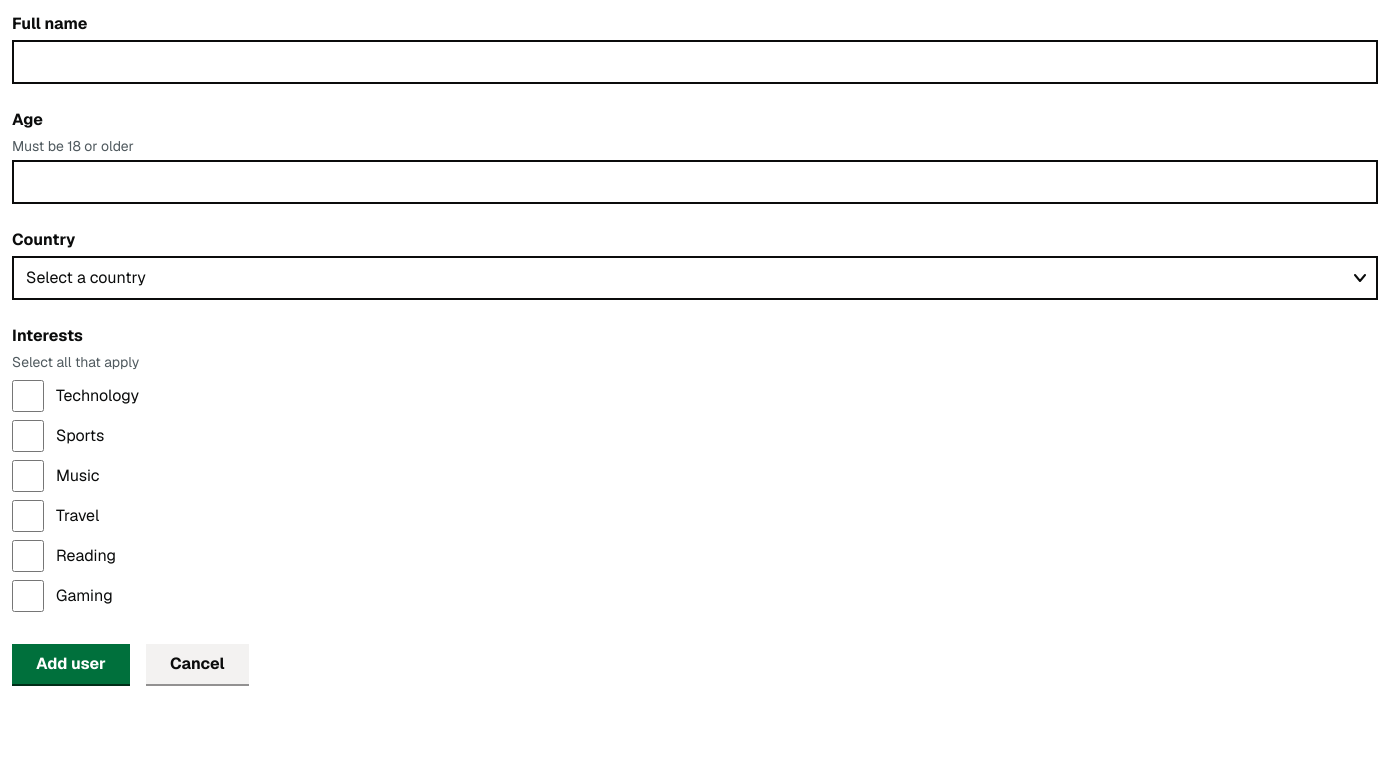
UserForm › validation › shows an age error when age is below 18
In the number field labelled "Age": (695, 182) [12,160,1378,204], type "16"
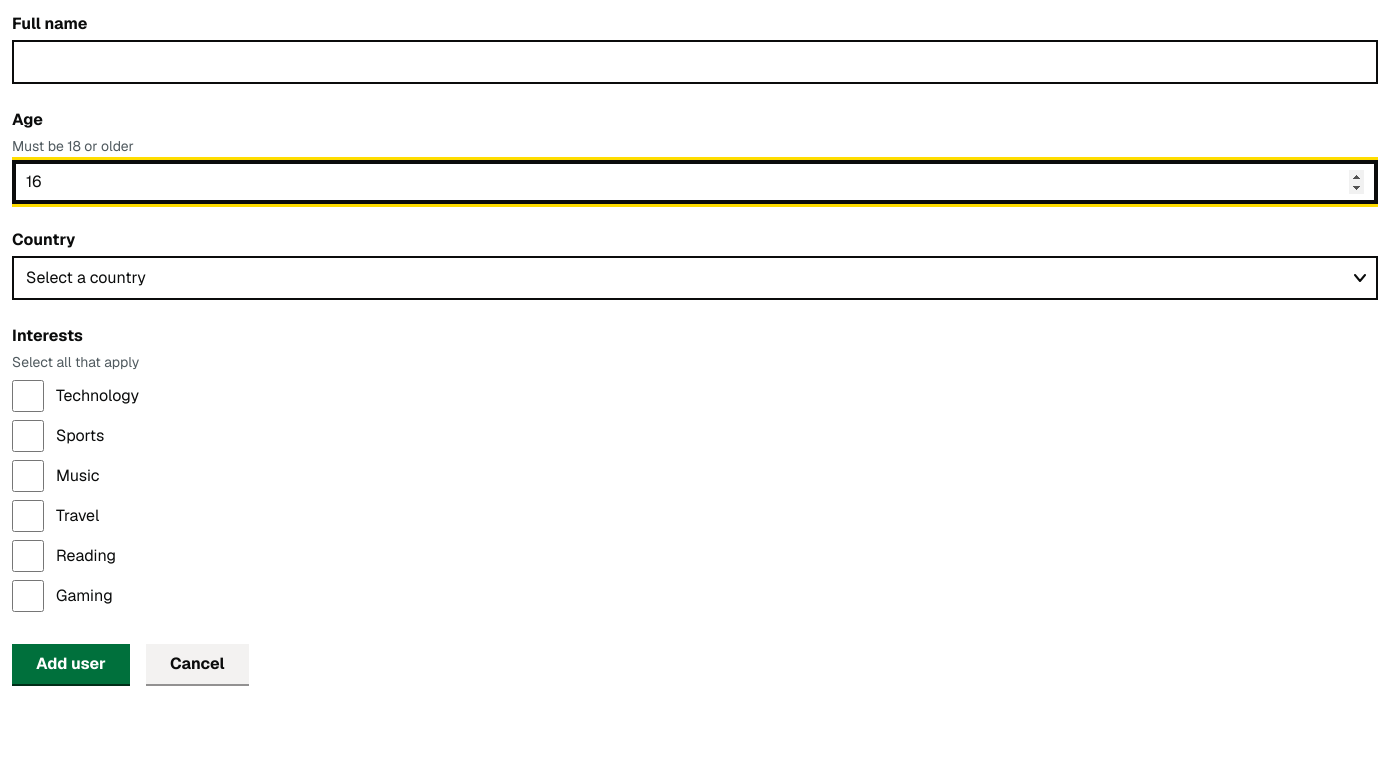
Click the button "Add user": (71, 664) [12,644,130,684]
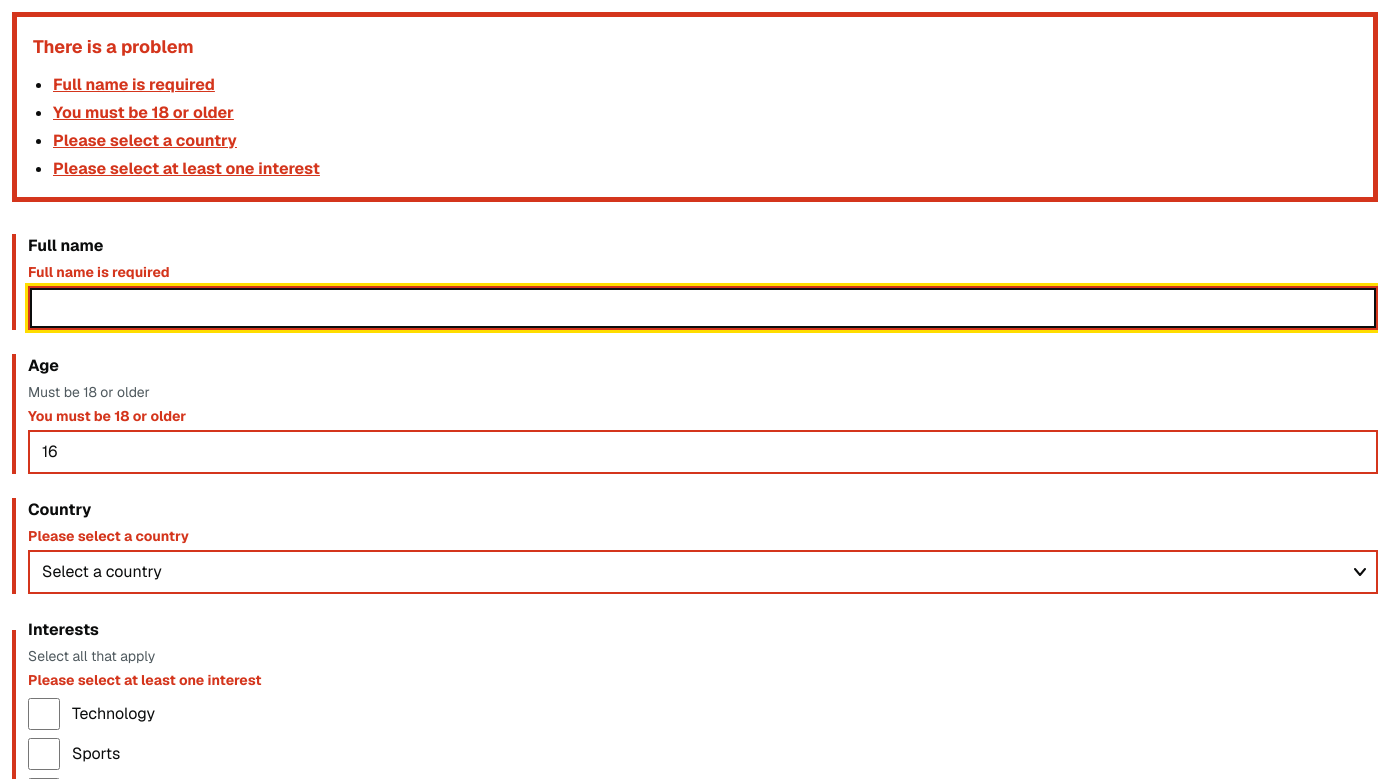
Now the link "You must be 18 or older" is shown, box [53,102,234,123]
